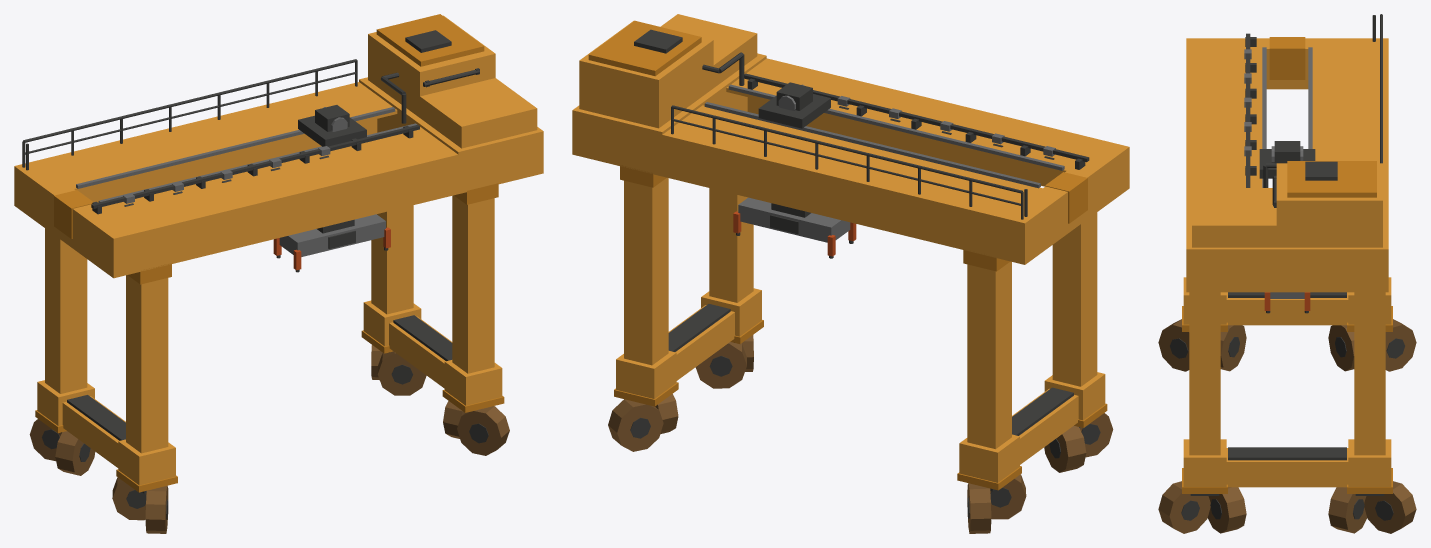
The model's file is container crane.fbx.
3 views of the same model, side by side, from view 1: azimuth 30°, elevation 25°; view 2: azimuth 150°, elevation 25°; view 3: azimuth 270°, elevation 25° (orthographic). The views are drawn at different scales.
Visible parts, largest first — view 1: Bogie_Rocker_LF; view 2: Bogie_Rocker_LF; view 3: Bogie_Rocker_LF.
Part boxes in pixels (box(x1,y1,x2,y2)): Bogie_Rocker_LF: box(14, 14, 543, 533); Bogie_Rocker_LF: box(572, 14, 1129, 533); Bogie_Rocker_LF: box(1158, 14, 1416, 533).
Bounding box in the file's own units: 925 × 736 × 471.
